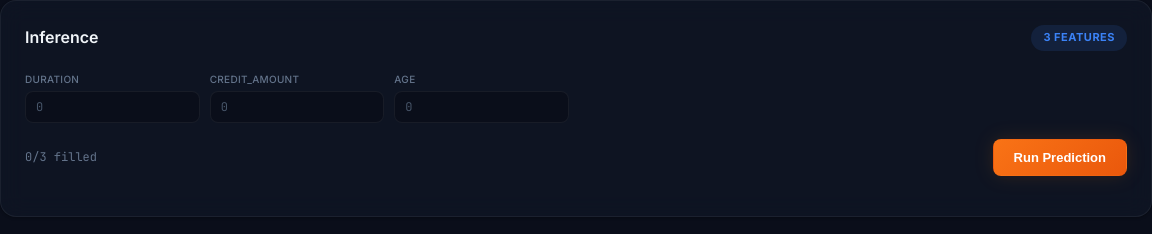
Scenario: PredictionPanel › shows filled count
Step 1. Type "25" into the number field labelled "age" → (482, 107), box [394, 91, 569, 123]
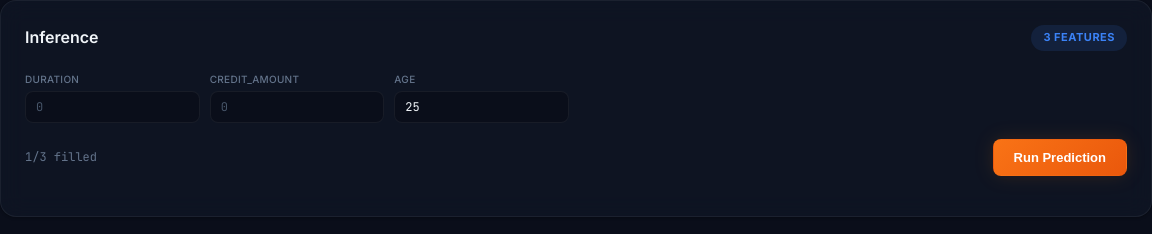
Expected: the text "1/3 filled" is shown, [25, 148, 97, 167]
